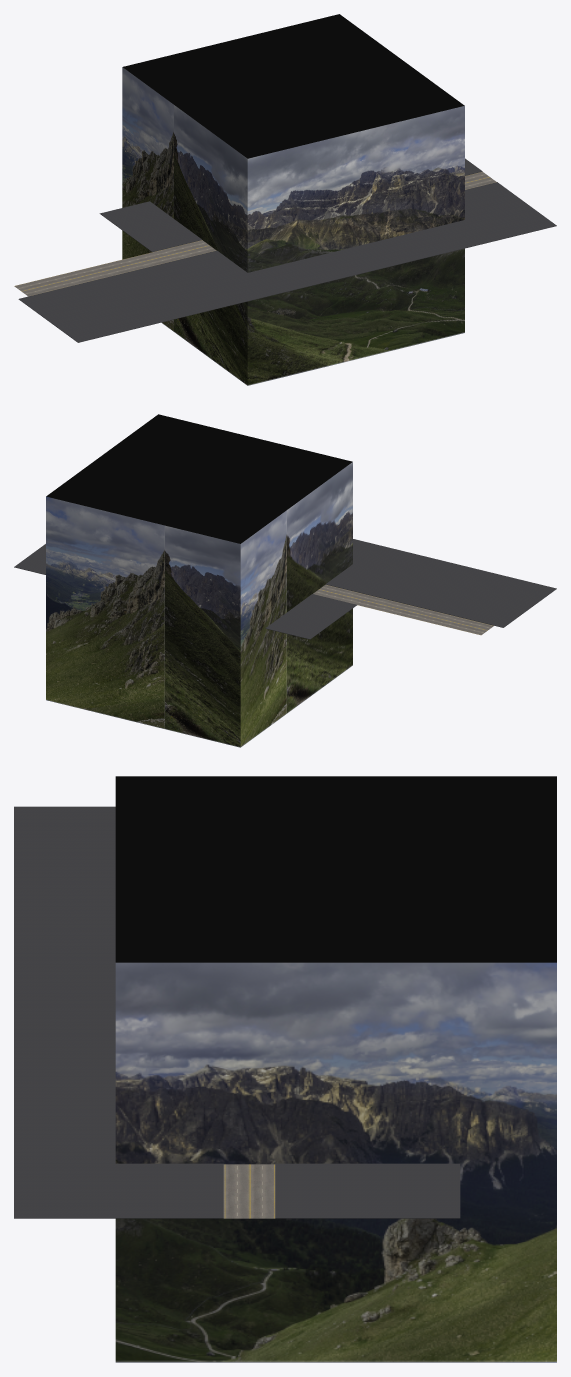
Rendered from TheUltimateRoom.dae.
3 renders of one model, top to bottom at view 1: azimuth 30°, elevation 25°; view 2: azimuth 150°, elevation 25°; view 3: azimuth 270°, elevation 25°, orthographic. The views are drawn at different scales.
Visible parts, largest first — view 1: view_cube, Road; view 2: view_cube, Road; view 3: view_cube, Road.
Boxes of the visible parts, x1=… form: view_cube: x1=122, y1=14, x2=464, y2=385; Road: x1=14, y1=158, x2=556, y2=342; view_cube: x1=46, y1=414, x2=352, y2=747; Road: x1=14, y1=539, x2=556, y2=639; view_cube: x1=115, y1=776, x2=556, y2=1362; Road: x1=14, y1=806, x2=460, y2=1218.
Bounding box in the file's own units: 330 × 184 × 150.
Materials: 143 (141 with a texture image).
